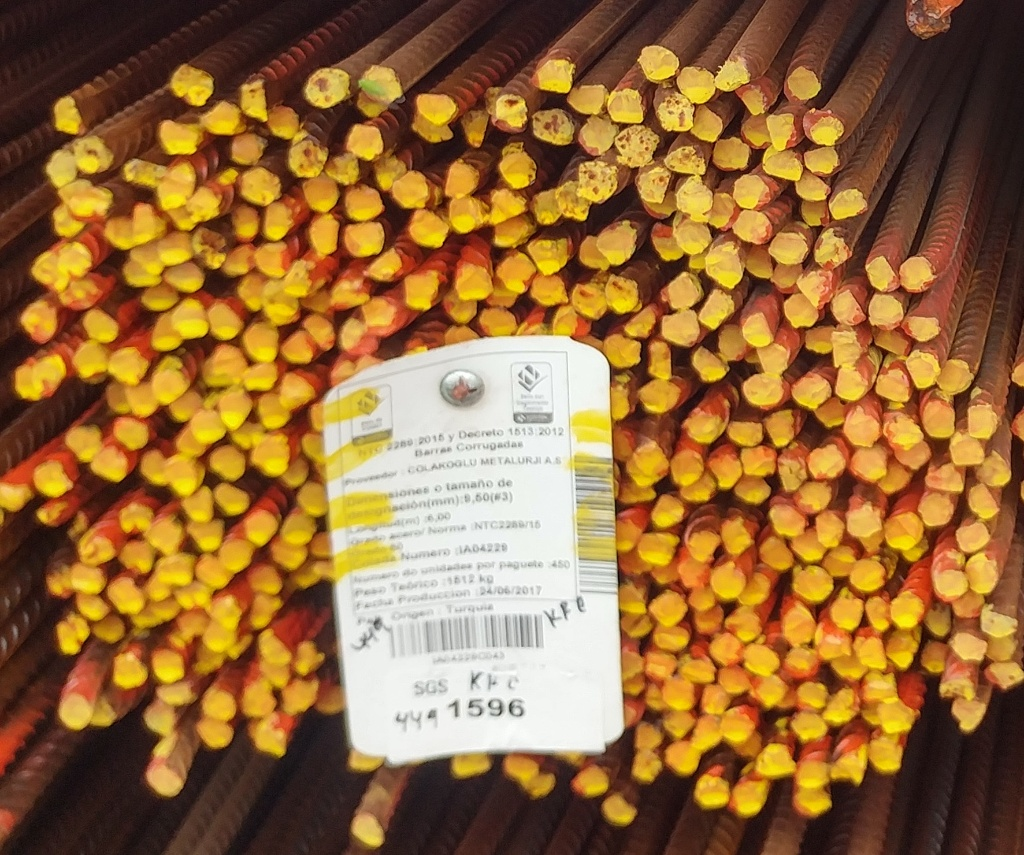dipstick: (625, 440, 670, 487), (304, 67, 351, 108), (170, 64, 214, 107), (704, 242, 743, 288), (358, 64, 402, 104), (676, 177, 714, 223), (203, 345, 246, 385), (253, 434, 293, 476), (615, 126, 658, 165), (275, 370, 314, 412), (409, 208, 449, 248), (579, 160, 614, 205), (289, 140, 329, 179), (185, 515, 225, 554), (240, 167, 281, 205), (194, 553, 235, 591), (262, 286, 303, 324), (533, 108, 575, 145), (301, 173, 340, 212), (341, 317, 380, 356), (344, 220, 384, 258), (172, 298, 210, 338), (497, 253, 535, 293), (243, 322, 280, 363), (32, 459, 73, 496), (791, 373, 832, 410), (179, 488, 221, 524), (528, 238, 570, 274), (159, 120, 202, 155), (22, 301, 56, 345), (90, 445, 129, 483), (252, 721, 291, 759), (724, 605, 763, 643), (665, 270, 703, 309), (73, 136, 113, 173), (65, 426, 105, 463), (555, 181, 591, 222), (707, 450, 743, 491), (68, 186, 111, 220), (144, 517, 183, 554), (393, 170, 429, 210), (203, 101, 244, 136), (831, 590, 866, 631), (884, 512, 925, 547), (792, 566, 834, 600), (346, 124, 384, 161), (345, 185, 383, 222), (240, 681, 277, 719), (442, 159, 479, 197), (492, 95, 529, 133), (255, 242, 294, 278), (649, 590, 688, 626), (20, 361, 55, 401), (44, 149, 78, 190), (144, 763, 185, 797), (638, 532, 679, 566), (307, 212, 339, 255), (282, 677, 319, 714), (259, 203, 295, 241), (152, 368, 188, 406), (456, 264, 494, 300), (694, 773, 730, 811), (158, 231, 197, 266), (106, 578, 145, 613), (639, 46, 678, 81), (782, 292, 821, 327), (162, 262, 206, 293), (487, 187, 527, 221), (597, 230, 637, 264), (110, 347, 147, 383), (876, 368, 913, 404), (580, 118, 616, 155), (677, 66, 714, 102), (404, 272, 439, 310), (605, 275, 640, 313), (693, 346, 731, 381), (268, 538, 307, 572), (966, 555, 1000, 594), (804, 112, 843, 146), (632, 169, 671, 203), (793, 480, 833, 513), (685, 410, 725, 443), (827, 686, 860, 726), (763, 147, 803, 180), (531, 60, 572, 92), (662, 311, 698, 347), (657, 95, 693, 131), (898, 256, 934, 292), (83, 308, 118, 345), (210, 444, 245, 481), (113, 652, 148, 689), (144, 699, 179, 736), (449, 195, 484, 232), (720, 708, 755, 745), (669, 450, 706, 485), (906, 351, 941, 388), (757, 744, 795, 778), (791, 528, 829, 562), (807, 444, 845, 478), (324, 153, 364, 185), (679, 471, 719, 503), (640, 379, 680, 411), (743, 374, 784, 405), (731, 212, 772, 243), (875, 701, 916, 732), (208, 303, 243, 339), (73, 340, 108, 376), (351, 812, 386, 848), (601, 793, 637, 828), (664, 740, 699, 776), (720, 517, 755, 553), (938, 360, 974, 395), (733, 175, 769, 210), (258, 393, 292, 430), (244, 510, 278, 547), (257, 631, 294, 665), (499, 153, 536, 187), (868, 295, 905, 329), (53, 96, 86, 134), (712, 137, 750, 170), (850, 560, 889, 592), (566, 85, 607, 115), (238, 85, 273, 120), (58, 695, 93, 730), (443, 289, 478, 324), (730, 781, 765, 816), (711, 565, 746, 600), (835, 366, 870, 401), (573, 284, 607, 320), (866, 255, 900, 291), (570, 764, 608, 796), (783, 608, 815, 646), (603, 334, 641, 366), (652, 223, 684, 261), (76, 534, 115, 565), (577, 123, 616, 154), (59, 243, 94, 277), (104, 216, 139, 250), (224, 243, 259, 277), (757, 340, 792, 374), (113, 417, 149, 450), (578, 236, 614, 269), (814, 235, 850, 268), (219, 392, 251, 429), (212, 483, 249, 515), (531, 272, 568, 304), (743, 644, 780, 676), (708, 633, 745, 665), (765, 410, 797, 447), (791, 711, 829, 742), (949, 632, 987, 663), (829, 292, 867, 323), (417, 92, 456, 122), (976, 451, 1010, 485), (190, 410, 225, 443), (952, 698, 987, 731), (965, 405, 998, 440), (609, 90, 644, 123), (70, 562, 106, 594), (660, 705, 696, 737), (741, 445, 777, 477), (895, 439, 931, 471), (140, 450, 171, 487), (282, 513, 319, 544), (720, 325, 751, 362), (886, 418, 923, 449), (196, 718, 234, 748), (985, 662, 1024, 691), (52, 204, 85, 238), (151, 649, 184, 683), (202, 688, 235, 722), (760, 536, 793, 570), (845, 415, 879, 448), (792, 789, 832, 817), (653, 622, 688, 654), (786, 646, 821, 678), (769, 504, 804, 536), (90, 612, 126, 643), (846, 507, 882, 538), (770, 233, 806, 264), (923, 403, 956, 436), (951, 432, 984, 465), (268, 105, 300, 139), (651, 494, 683, 528), (869, 740, 903, 772), (788, 66, 820, 100), (297, 482, 328, 517), (532, 189, 563, 224), (74, 591, 110, 621), (734, 474, 770, 504), (917, 495, 953, 525), (700, 290, 727, 330), (503, 753, 540, 782), (815, 510, 844, 547), (282, 331, 314, 364), (687, 530, 719, 563), (744, 314, 776, 347), (858, 638, 890, 671), (851, 449, 884, 481), (740, 116, 773, 148), (232, 133, 266, 164), (803, 149, 842, 176), (631, 750, 661, 785), (934, 569, 969, 599), (209, 597, 241, 629), (644, 651, 676, 683), (187, 187, 218, 220), (249, 564, 282, 595), (755, 674, 786, 707), (617, 519, 647, 553), (956, 523, 990, 553), (230, 206, 259, 241), (831, 189, 866, 218), (738, 572, 770, 603), (625, 306, 656, 338), (829, 331, 860, 363), (480, 308, 515, 336), (796, 761, 832, 788), (980, 606, 1012, 636), (728, 418, 762, 446), (865, 596, 893, 630), (693, 106, 720, 141), (142, 286, 181, 310), (796, 173, 830, 200), (903, 315, 941, 339), (797, 681, 827, 711), (920, 640, 949, 671), (701, 684, 730, 714), (719, 666, 750, 694), (799, 198, 830, 226), (648, 343, 672, 379), (453, 753, 490, 776), (663, 678, 694, 705), (717, 65, 747, 91), (893, 599, 921, 626), (635, 722, 662, 749), (941, 680, 973, 702), (611, 386, 631, 420), (687, 588, 715, 610)
